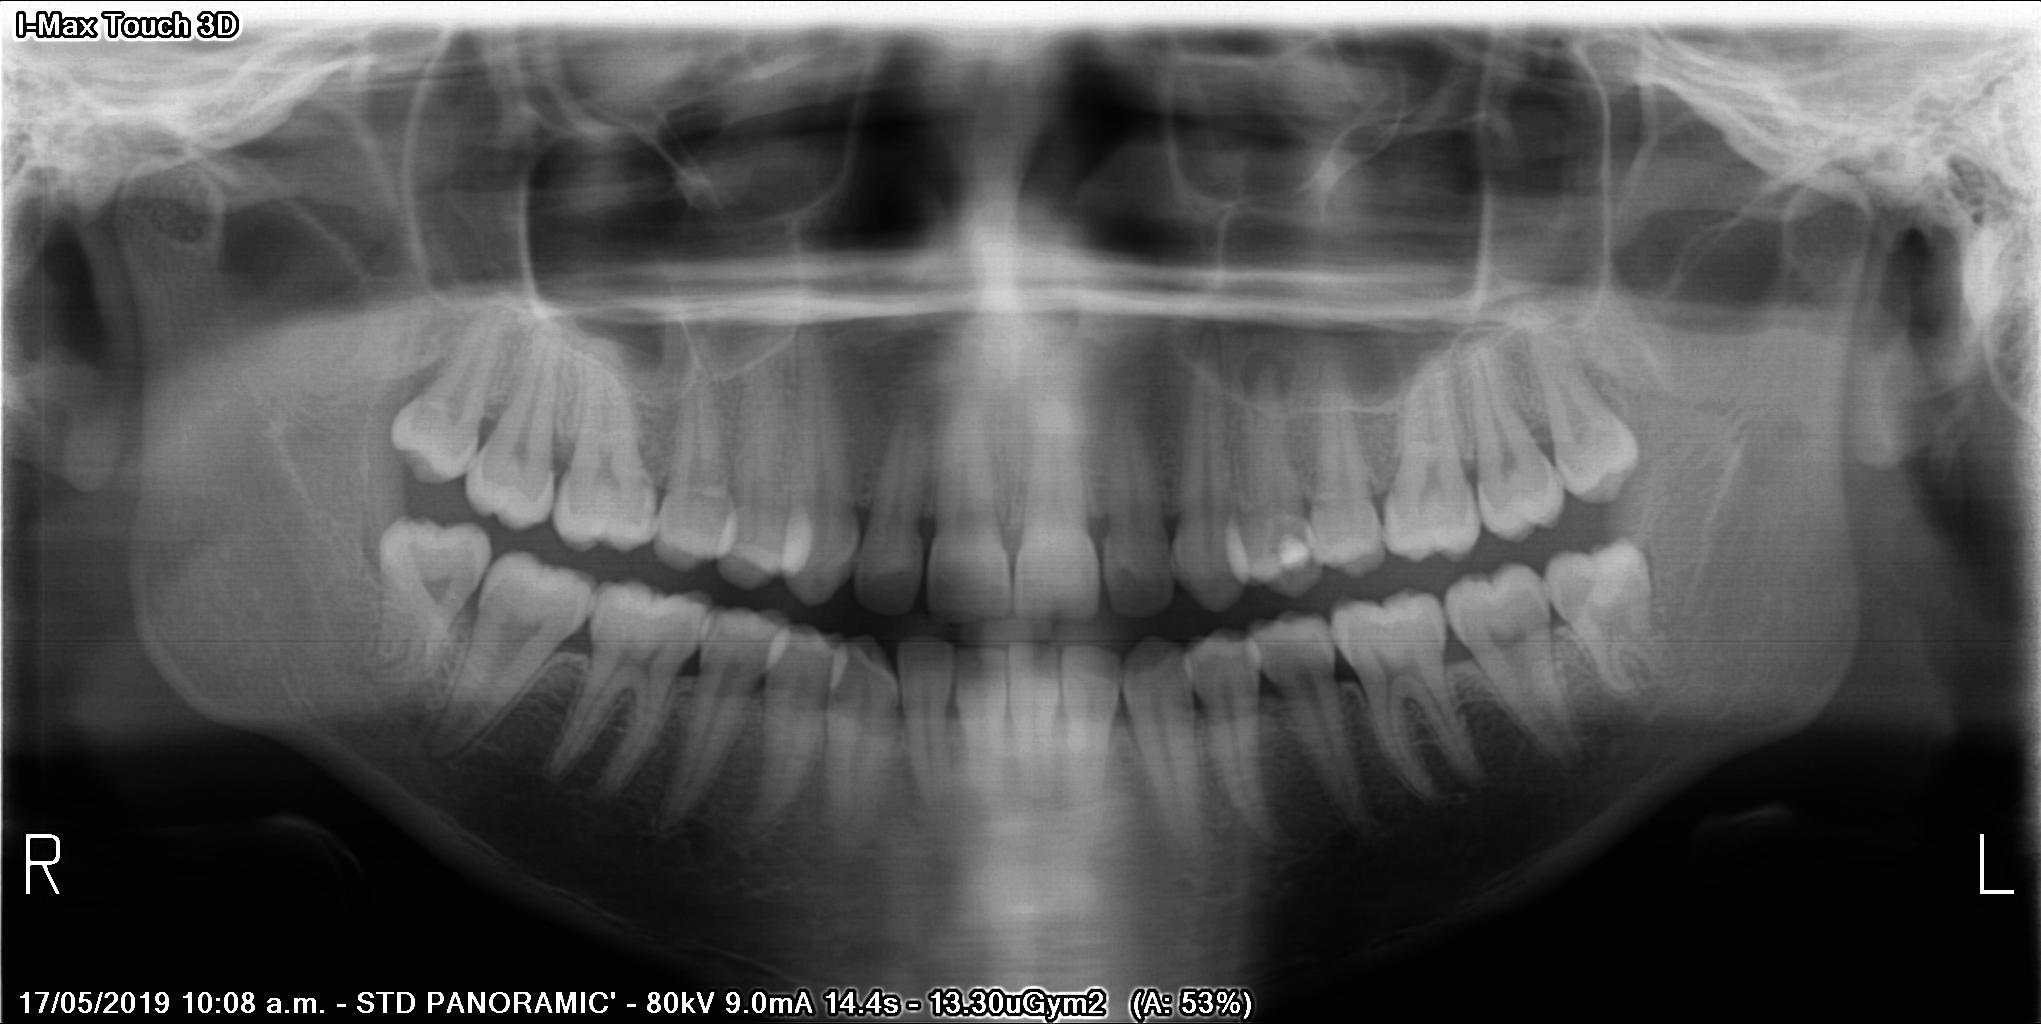Çürük: (1278, 537, 1319, 575)
Çürük Bölgesi: (1273, 524, 1310, 536)
